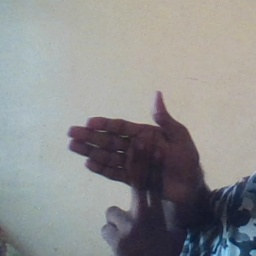N: (62, 91, 193, 250)
